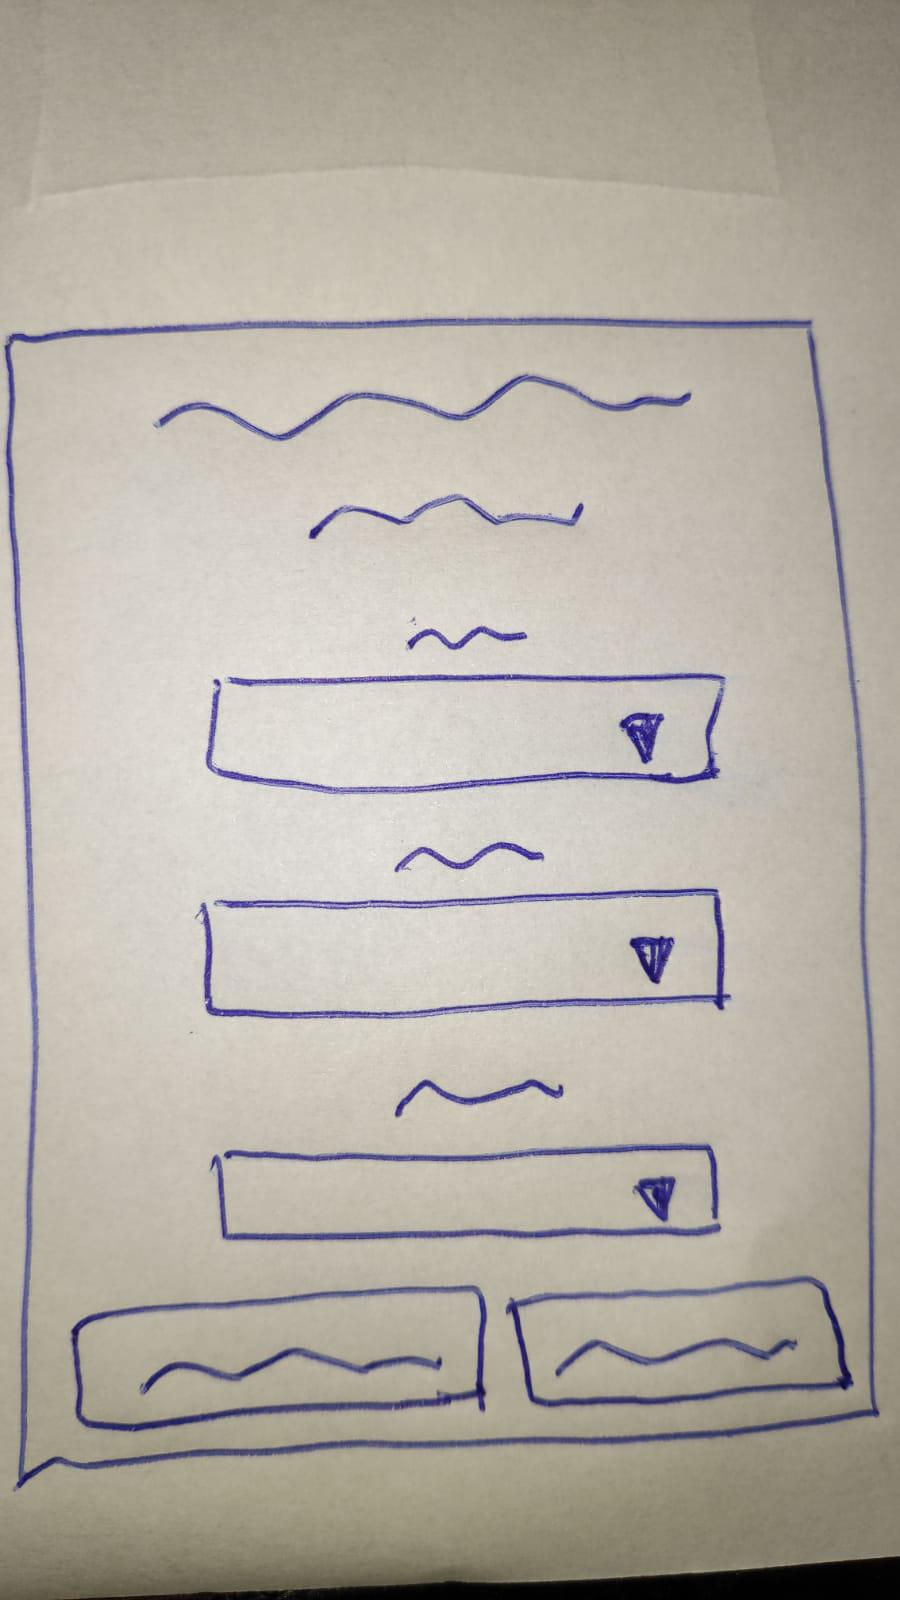Button: (71, 1285, 487, 1431), (504, 1275, 851, 1409)
Label: (154, 374, 694, 553), (392, 1072, 565, 1120), (393, 842, 548, 876), (403, 622, 528, 654)
ListPicker: (204, 888, 725, 1018), (201, 674, 726, 794), (216, 1141, 718, 1241)
Screen: (9, 319, 879, 1491)
